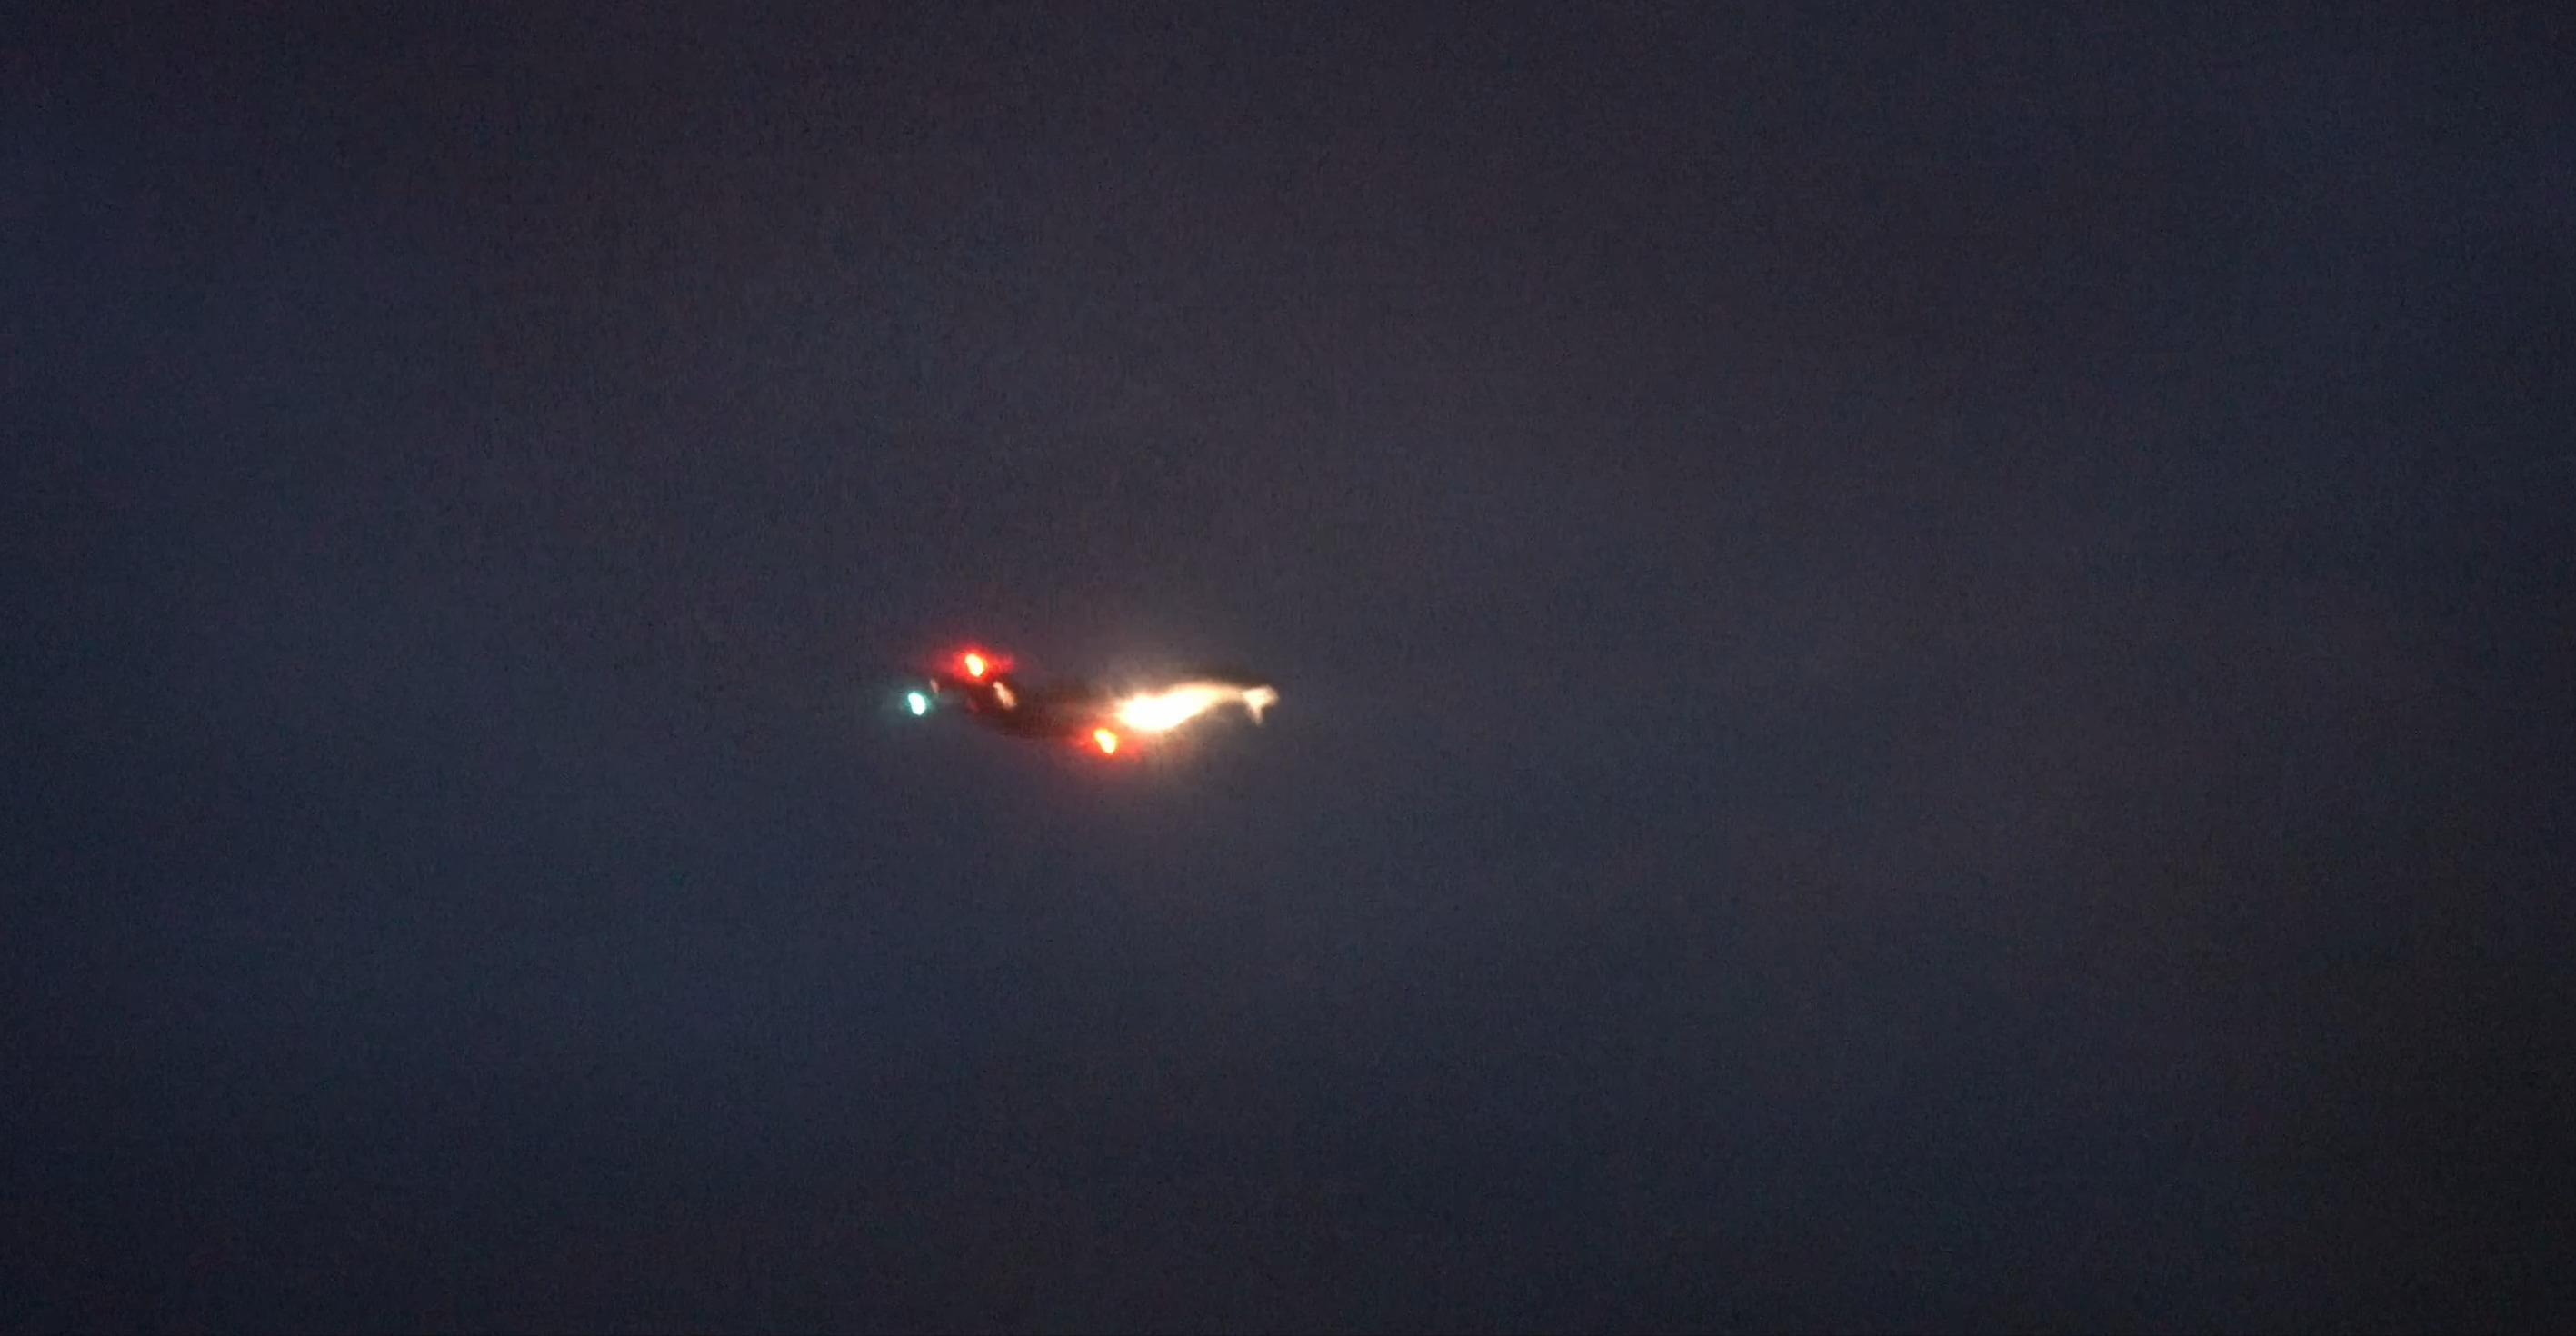Plane: (872, 632, 1279, 780)
